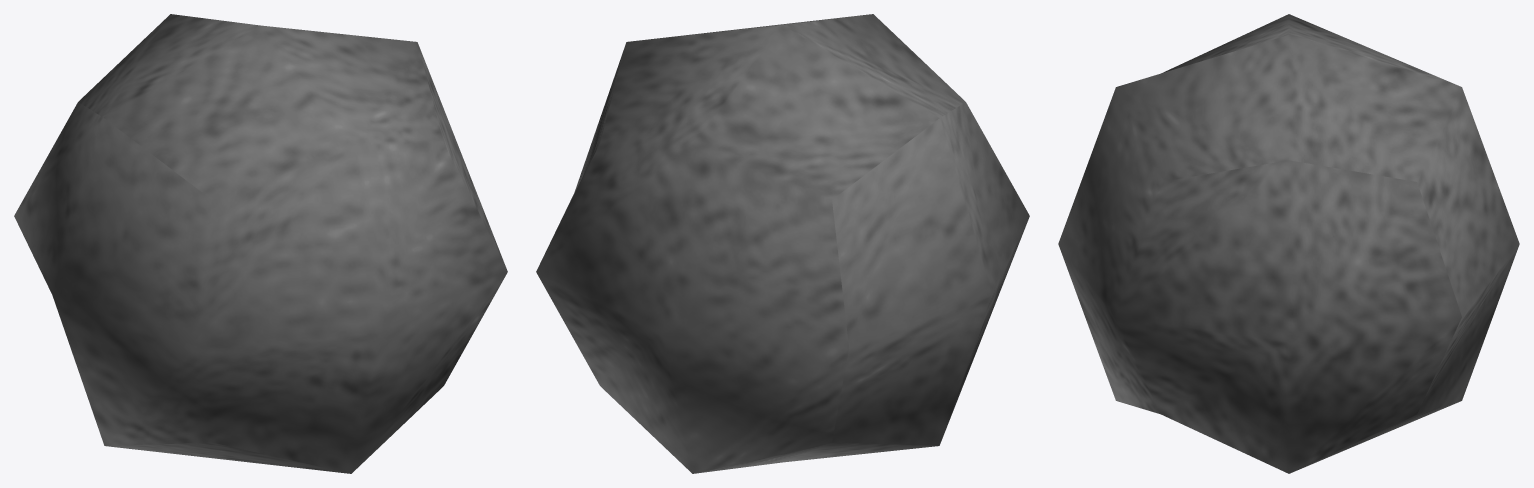
File: furball.fbx
3 renders of one model, left to right at view 1: azimuth 30°, elevation 25°; view 2: azimuth 150°, elevation 25°; view 3: azimuth 270°, elevation 25°, orthographic. The views are drawn at different scales.
Visible parts, largest first — view 1: pCube33; view 2: pCube33; view 3: pCube33.
Part boxes in pixels (<box>): pCube33: <box>14,14,507,473</box>; pCube33: <box>536,14,1029,473</box>; pCube33: <box>1058,14,1519,473</box>.
Size of the model in its own units: 0.3815 by 0.3815 by 0.3815.
Materials: 1 (1 with a texture image).
